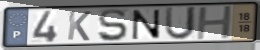4: (31, 9, 60, 44)
H: (195, 5, 234, 42)
K: (66, 10, 93, 42)
N: (131, 9, 163, 41)
S: (97, 8, 130, 43)
U: (163, 5, 199, 42)
